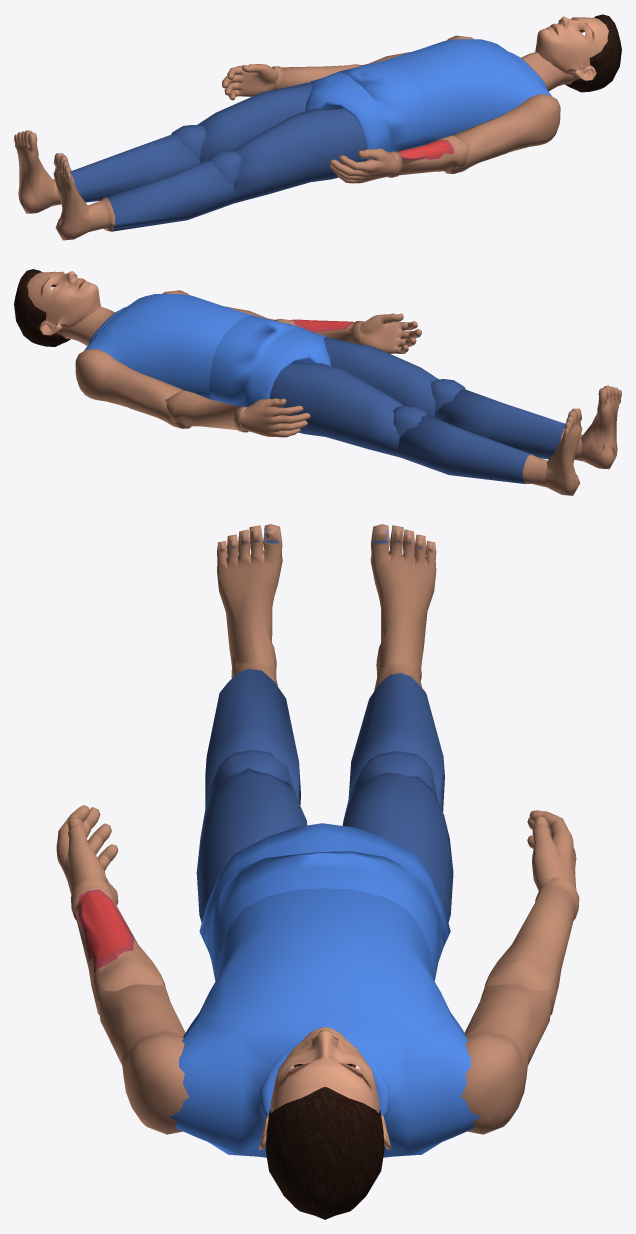
Rendered from maneken(odozh).fbx.
3 views of the same model, one above another, from view 1: azimuth 30°, elevation 25°; view 2: azimuth 150°, elevation 25°; view 3: azimuth 270°, elevation 25° (orthographic). The views are drawn at different scales.
Visible parts, largest first — view 1: Object_9.004, Object_9.005, Object_9.006; view 2: Object_9.004, Object_9.005, Object_9.006; view 3: Object_9.004, Object_9.006, Object_9.005.
Boxes of the visible parts, x1=… form: Object_9.004: x1=14, y1=35, x2=573, y2=240; Object_9.005: x1=535, y1=16, x2=608, y2=84; Object_9.006: x1=565, y1=14, x2=621, y2=92; Object_9.004: x1=62, y1=290, x2=621, y2=495; Object_9.005: x1=27, y1=271, x2=100, y2=338; Object_9.006: x1=14, y1=269, x2=70, y2=346; Object_9.004: x1=56, y1=524, x2=579, y2=1157; Object_9.006: x1=265, y1=1087, x2=384, y2=1219; Object_9.005: x1=259, y1=1027, x2=391, y2=1150.
Size of the model in its own units: 1434 by 227 by 563.
8 materials, 3 textured.
